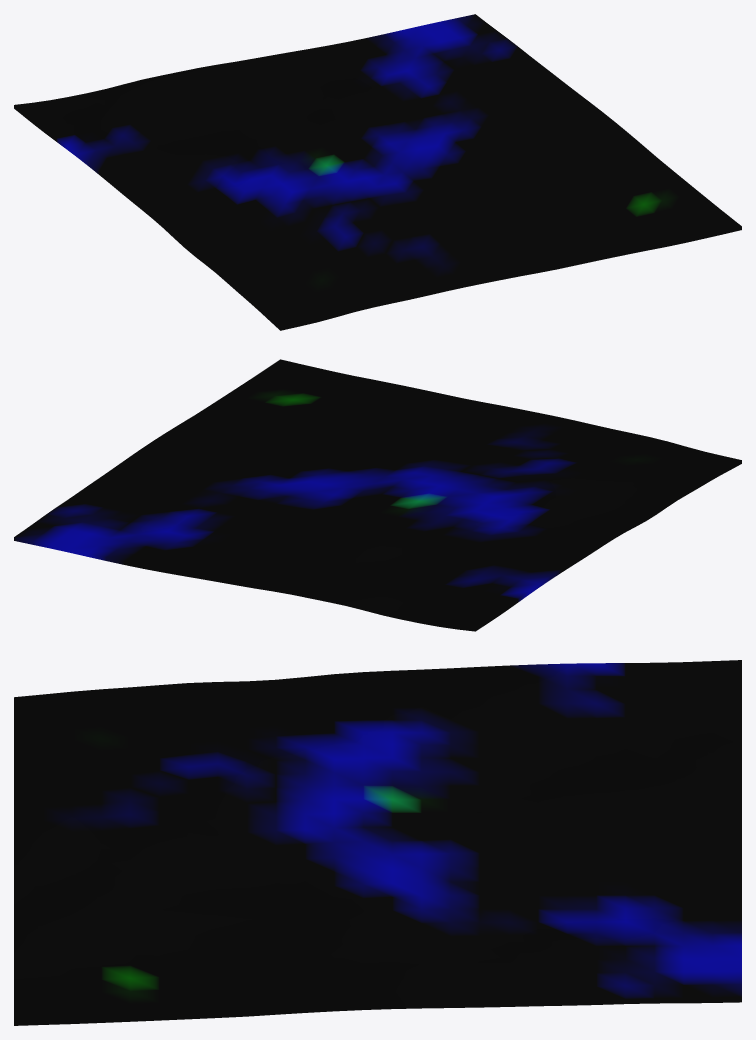
File: coast_10_5.glb
3 views of the same model, one above another, from view 1: azimuth 30°, elevation 25°; view 2: azimuth 150°, elevation 25°; view 3: azimuth 270°, elevation 25° (orthographic). The views are drawn at different scales.
Visible parts, largest first — view 1: terrain; view 2: terrain; view 3: terrain.
Boxes of the visible parts, x1,y1,x2,y2 form: terrain: [14, 14, 741, 330]; terrain: [14, 359, 741, 631]; terrain: [14, 660, 741, 1025].
Size of the model in its own units: 200 by 17.67 by 200.
